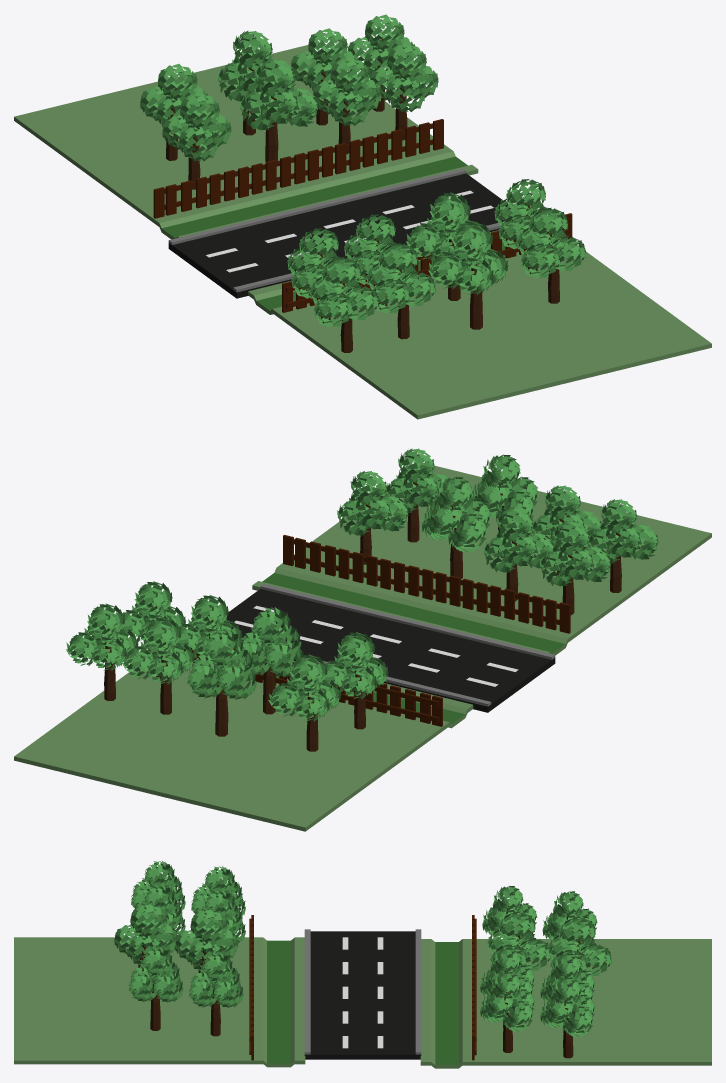
File: asset_house 1.fbx
The picture shows the model from 3 angles, top to bottom: view 1: azimuth 30°, elevation 25°; view 2: azimuth 150°, elevation 25°; view 3: azimuth 270°, elevation 25°; orthographic projection. The views are drawn at different scales.
Parts seen in each view (by area): view 1: Cube.002, Cube, Cube.004, Cube.001, Cylinder.012, Cylinder, Cylinder.013, Cylinder.014, Cylinder.015, Cylinder.002, Cylinder.003, Cylinder.001 (+9 smaller); view 2: Cube, Cube.002, Cube.004, Cube.003, Cylinder.004, Cylinder.008, Cylinder.006, Cylinder, Cylinder.007, Cylinder.005, Cylinder.009, Cylinder.010 (+9 smaller); view 3: Cube.002, Cube, Cube.004, Cylinder.014, Cylinder.010, Cylinder.005, Cylinder.001, Cylinder.012, Cylinder.008, Cylinder, Cylinder.004, Cylinder.006 (+9 smaller).
Boxes of the visible parts, box(x1,y1,x2,y2) form: Cube.002: box(248, 230, 711, 419); Cube: box(14, 45, 478, 239); Cube.004: box(168, 168, 510, 298); Cube.001: box(153, 119, 443, 218); Cylinder.012: box(428, 221, 508, 329); Cylinder: box(240, 59, 319, 161); Cylinder.013: box(309, 257, 378, 352); Cylinder.014: box(517, 207, 585, 303); Cylinder.015: box(366, 243, 435, 339); Cylinder.002: box(162, 92, 231, 189); Cylinder.003: box(312, 57, 381, 154); Cylinder.001: box(369, 43, 438, 140); Cube: box(14, 648, 473, 831); Cube.002: box(252, 463, 711, 655); Cube.004: box(226, 584, 555, 712); Cube.003: box(283, 535, 570, 633); Cylinder.004: box(187, 629, 256, 736); Cylinder.008: box(421, 476, 491, 579); Cylinder.006: box(268, 654, 340, 751); Cylinder: box(238, 607, 303, 714); Cylinder.007: box(122, 617, 194, 714); Cylinder.005: box(66, 603, 138, 700); Cylinder.009: box(539, 521, 611, 615); Cylinder.010: box(337, 471, 408, 564); Cube.002: box(14, 937, 305, 1067); Cube: box(420, 939, 711, 1068); Cube.004: box(304, 929, 421, 1059); Cylinder.014: box(128, 946, 183, 1030); Cylinder.010: box(189, 952, 243, 1036); Cylinder.005: box(540, 977, 595, 1058); Cylinder.001: box(480, 972, 534, 1052); Cylinder.012: box(114, 904, 177, 974); Cylinder.008: box(174, 909, 238, 975); Cylinder: box(487, 911, 551, 971); Cylinder.004: box(548, 917, 611, 977); Cylinder.006: box(542, 891, 597, 947).
Size of the model in its own units: 2338 by 719 by 4791.
